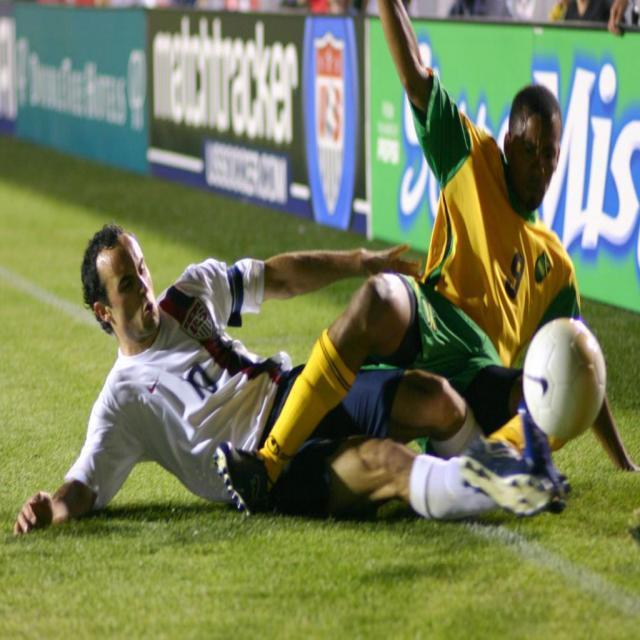football: (517, 318, 608, 461)
